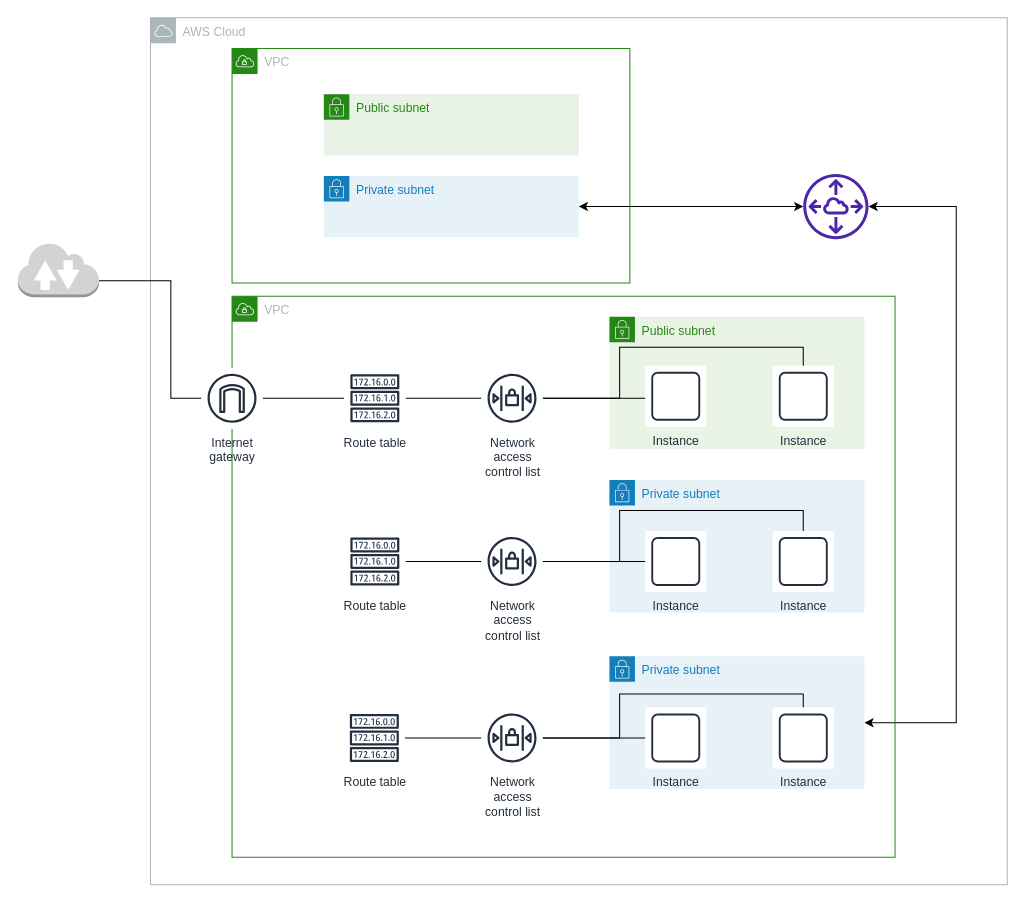
Image size: 1025x903. Some labels were removed from this diagram. The centre of each missing label's shape, as x and y in pixels:
"Internet" goes at point (58, 269).
"Peering Connection" goes at point (835, 206).
